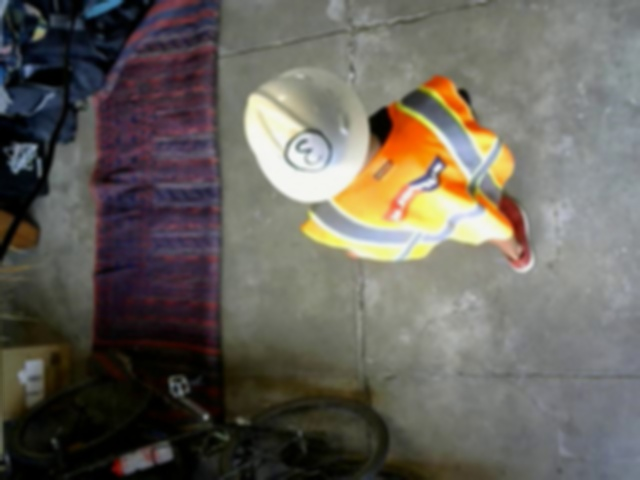three: (284, 130, 331, 172)
